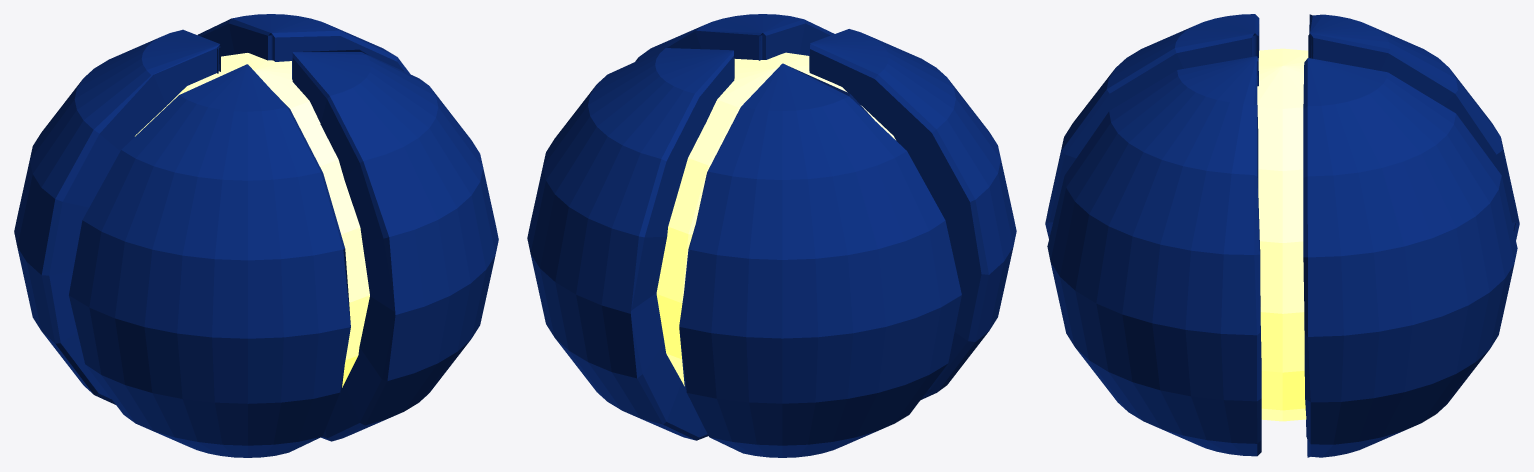
File: lightning_gun_ammo.fbx
3 renders of one model, left to right at view 1: azimuth 30°, elevation 25°; view 2: azimuth 150°, elevation 25°; view 3: azimuth 270°, elevation 25°, orthographic.
Visible parts, largest first — view 1: Lightning Gun Ammo; view 2: Lightning Gun Ammo; view 3: Lightning Gun Ammo.
Boxes of the visible parts, <box> form: Lightning Gun Ammo: <box>14,14,498,457</box>; Lightning Gun Ammo: <box>527,14,1016,457</box>; Lightning Gun Ammo: <box>1045,14,1519,457</box>.
Size of the model in its own units: 82.49 by 72.52 by 81.92.
